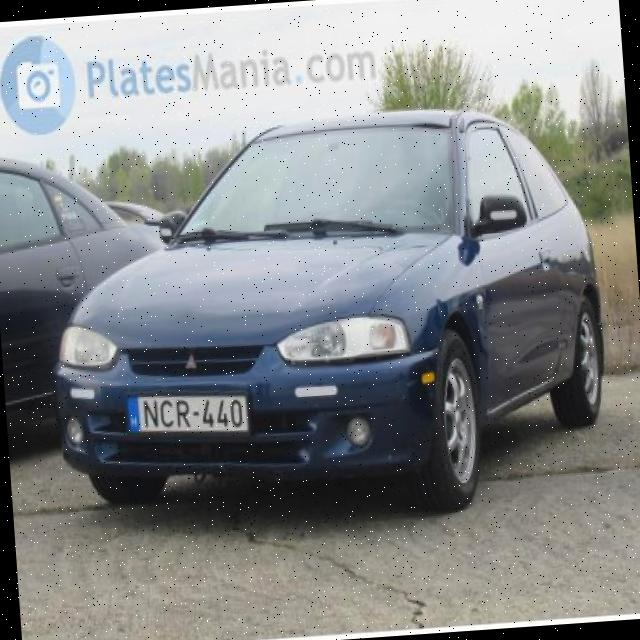licence: (126, 386, 254, 443)
